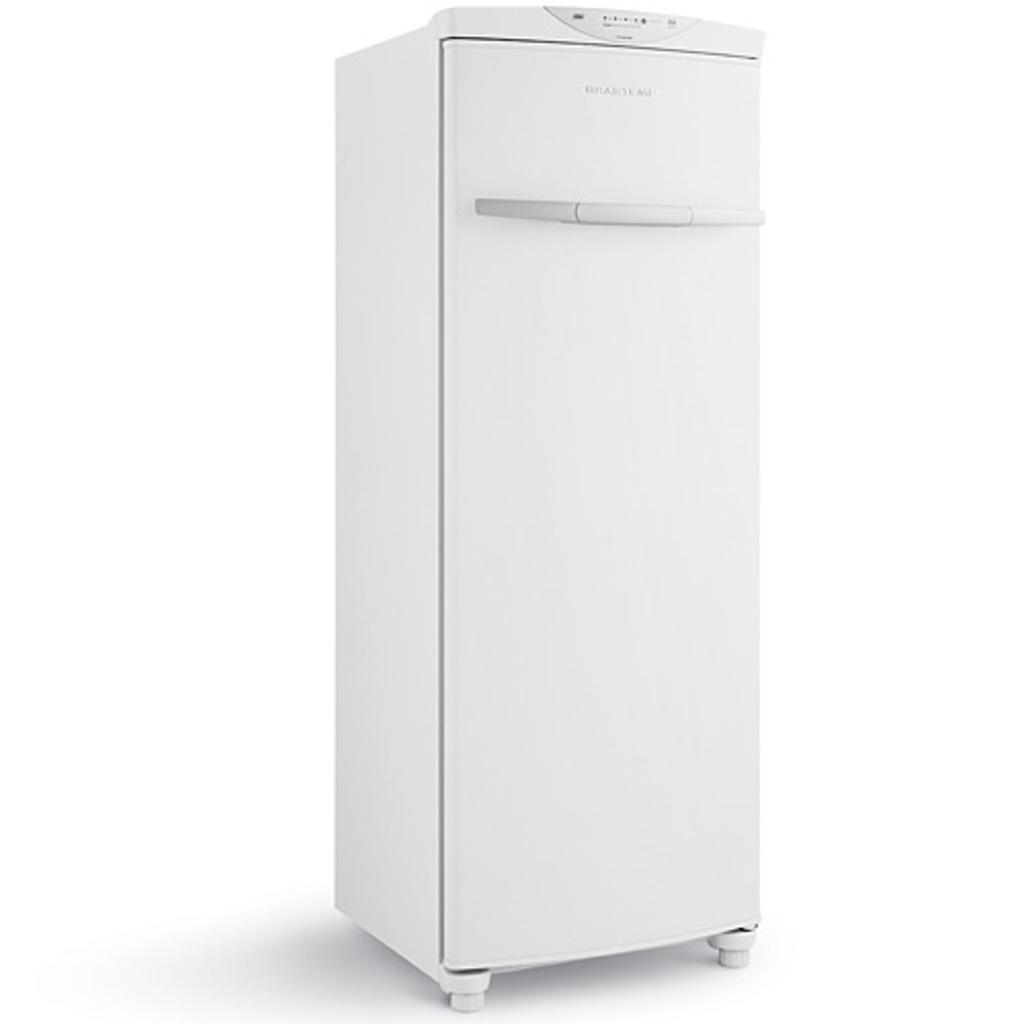handle: (475, 190, 764, 238)
